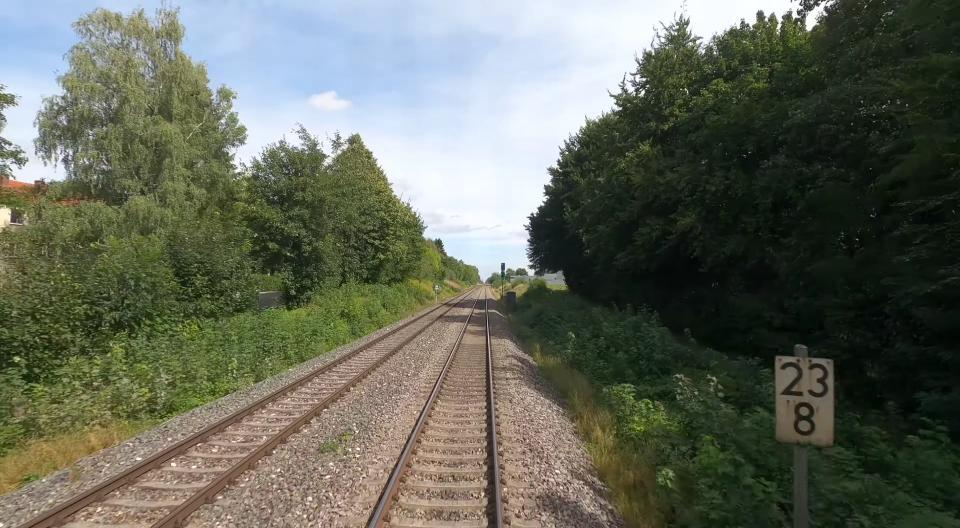Plant: (318, 431, 352, 454)
